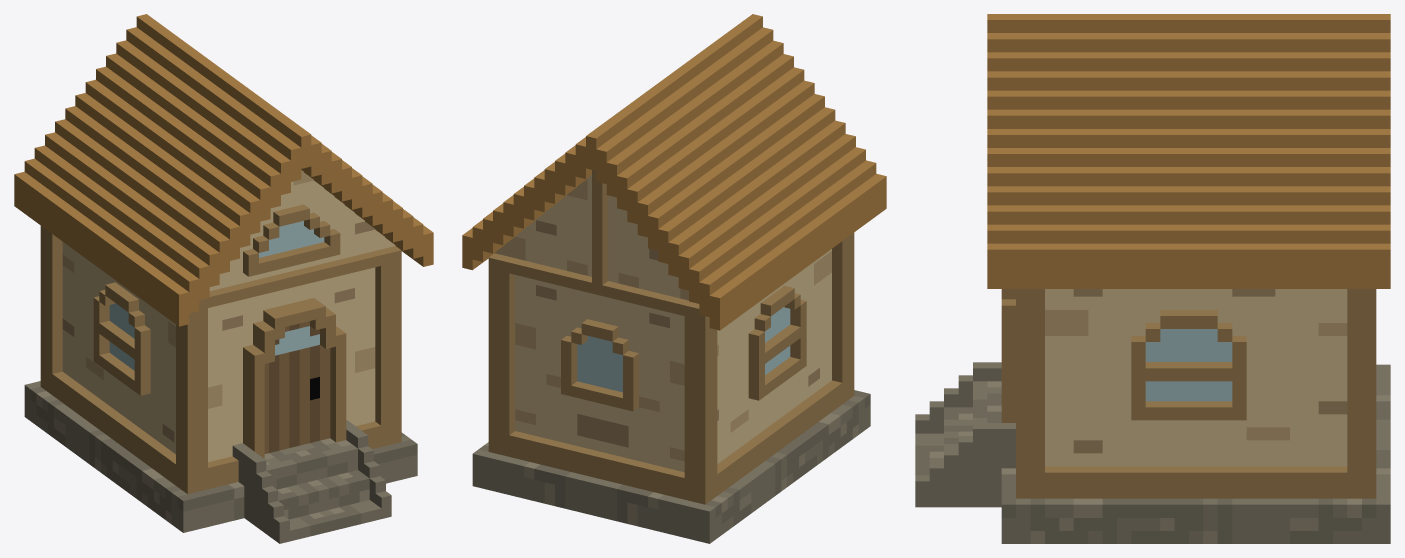
Rendered from house2.vox.obj.
3 views of the same model, side by side, from view 1: azimuth 30°, elevation 25°; view 2: azimuth 150°, elevation 25°; view 3: azimuth 270°, elevation 25° (orthographic). The views are drawn at different scales.
Bounding box in the file's own units: 2.5 × 3.5 × 3.3.
1 material, 1 textured.
